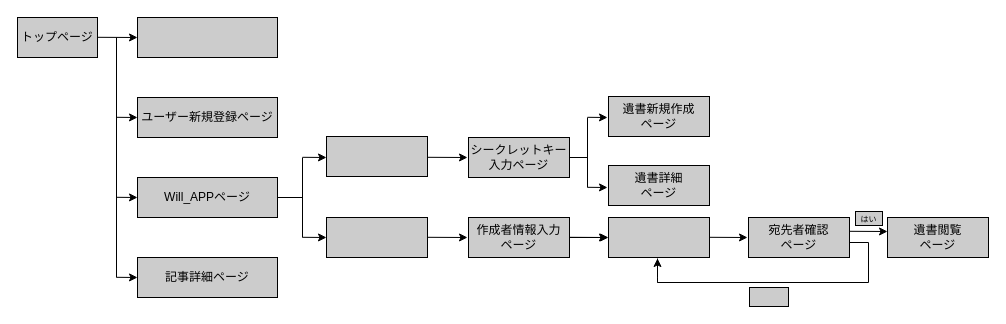
The diagram is 1006 pixels wide and 324 high, and some of its shapes have lost their labels. The box of each missing label's shape, as (x1, y1, x2, y2) in pixels:
いいえ: (748, 286, 788, 306)
ユーザーログインページ: (136, 16, 278, 58)
宛先一覧 ページ: (608, 216, 710, 258)
遺書作成者本人: (326, 136, 428, 176)
閲覧者: (326, 216, 428, 258)
